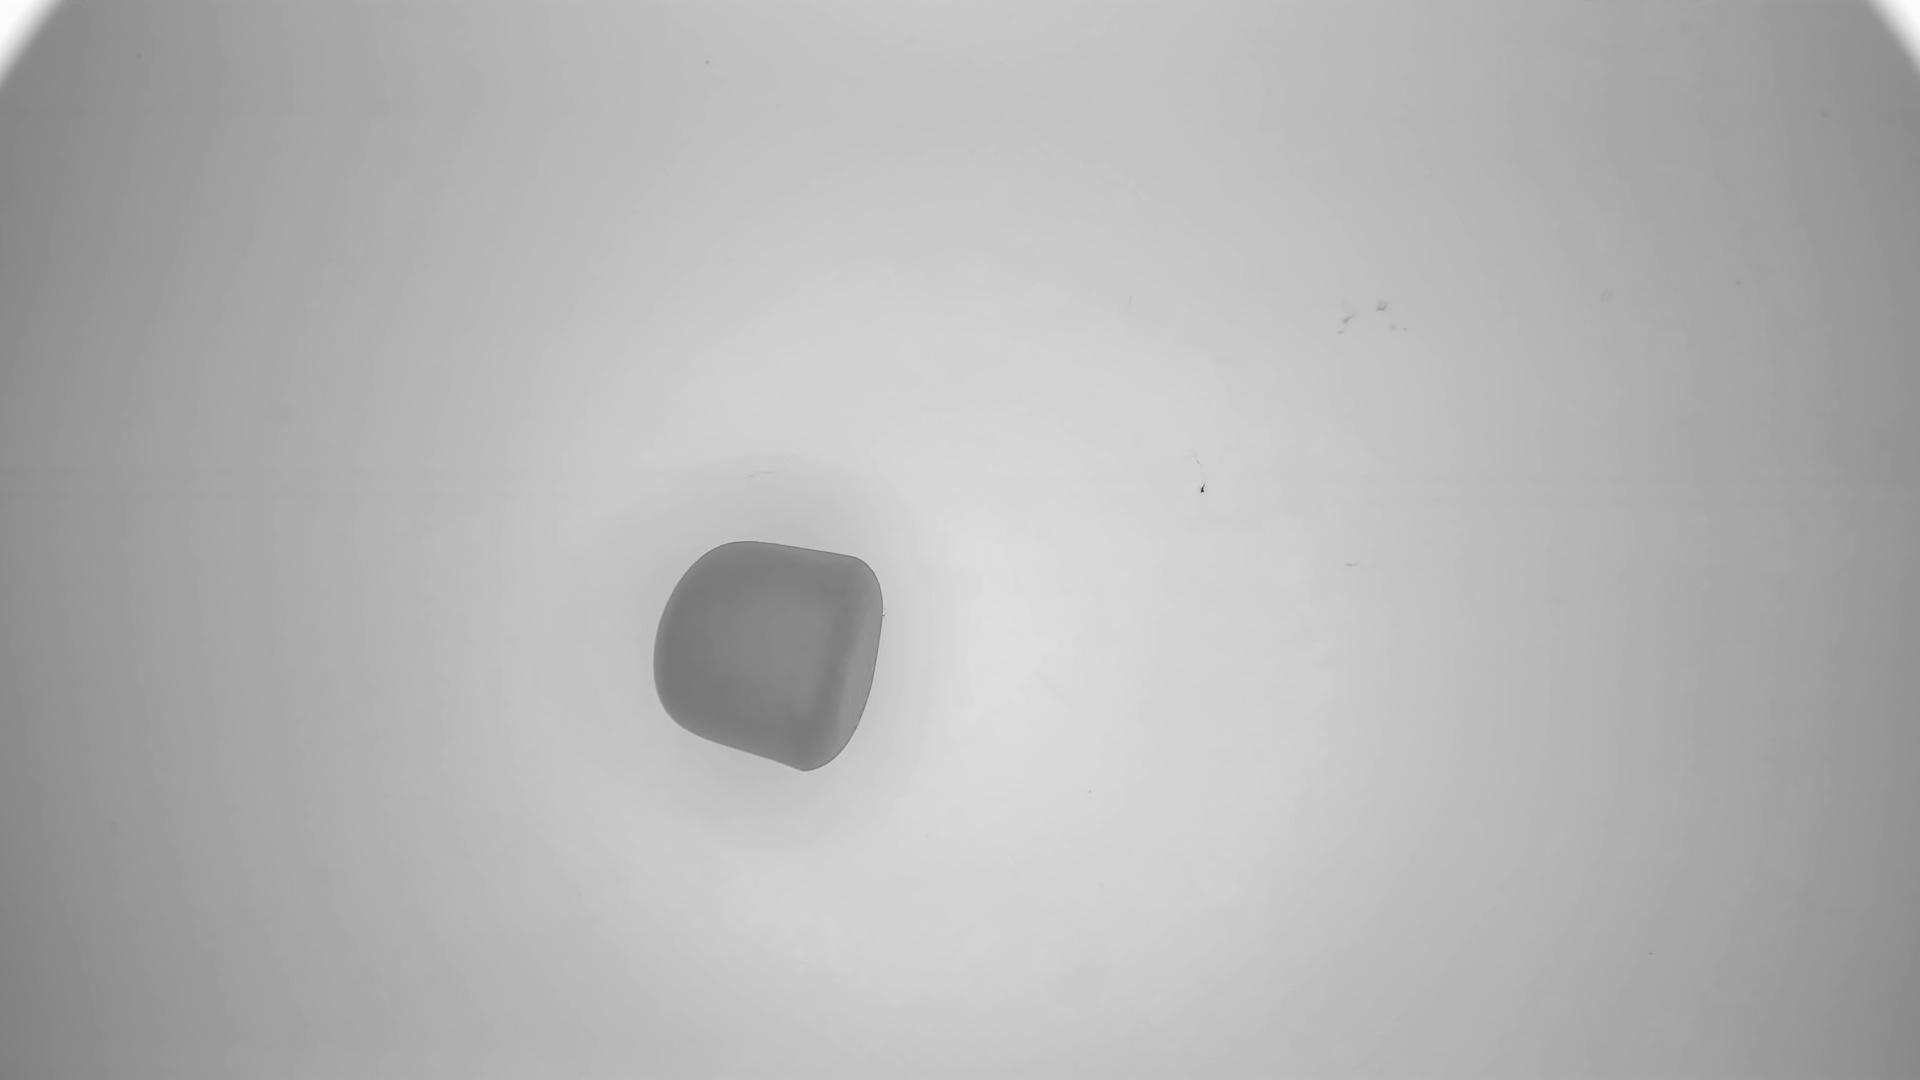normal: (650, 535, 887, 778)
